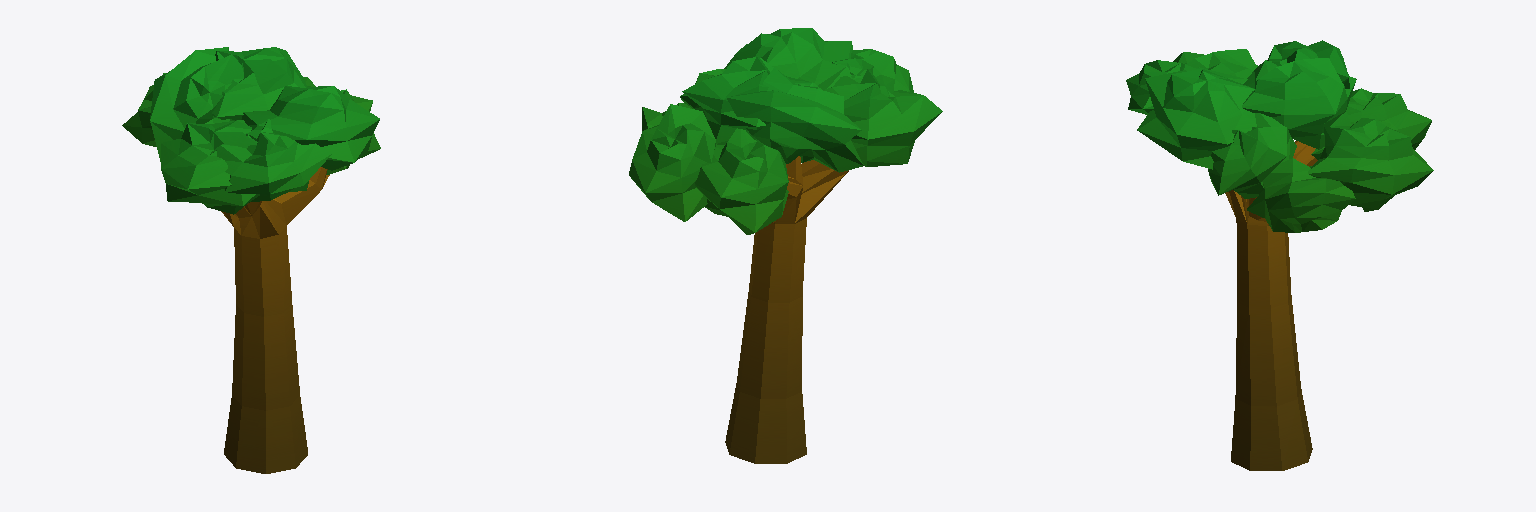
3 views of the same model, side by side, from view 1: azimuth 30°, elevation 25°; view 2: azimuth 150°, elevation 25°; view 3: azimuth 270°, elevation 25° (orthographic).
Parts seen in each view (by area): view 1: pSphere13; view 2: pSphere13; view 3: pSphere13.
Part boxes in pixels (x1,y1,x2,y2): pSphere13: (122,47,380,473); pSphere13: (629,28,942,463); pSphere13: (1126,40,1433,470).
Size of the model in its own units: 2.61 by 4.09 by 2.87.
1 materials, 1 textured.